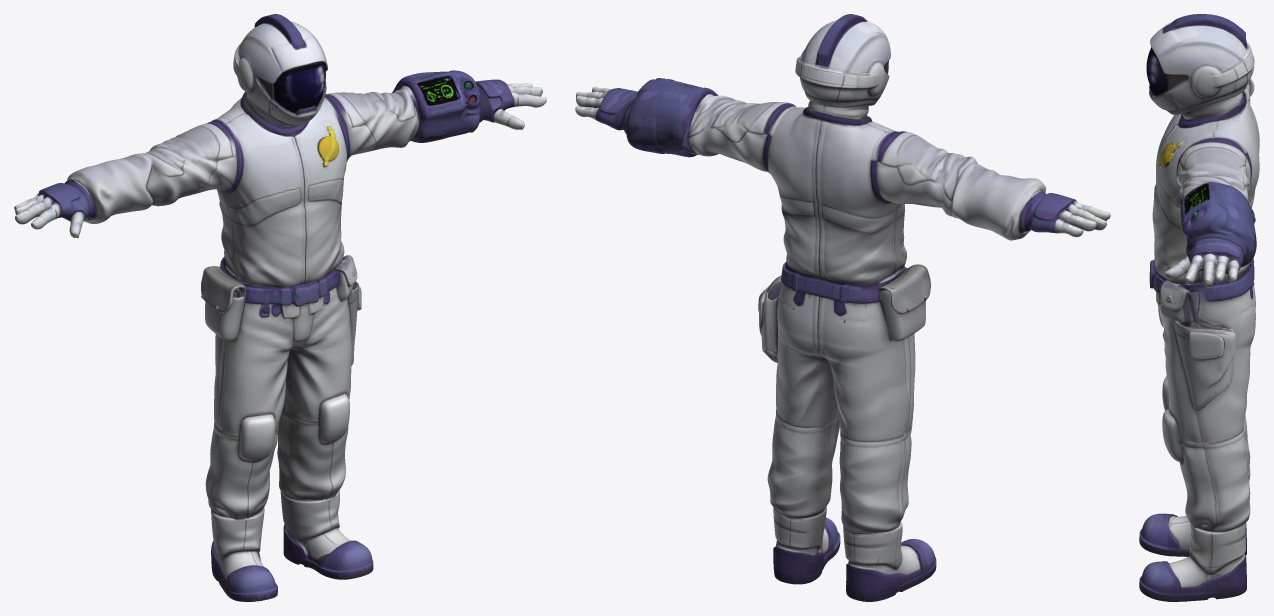
Rendered from Astronaut.glb.
3 views of the same model, side by side, from view 1: azimuth 30°, elevation 25°; view 2: azimuth 150°, elevation 25°; view 3: azimuth 270°, elevation 25° (orthographic).
Parts seen in each view (by area): view 1: Meshy_Mesh_0; view 2: Meshy_Mesh_0; view 3: Meshy_Mesh_0.
Part boxes in pixels (x1,y1,x2,y2): Meshy_Mesh_0: (14, 14, 546, 601); Meshy_Mesh_0: (575, 14, 1110, 601); Meshy_Mesh_0: (1139, 14, 1259, 601).
Size of the model in its own units: 1.89 by 1.9 by 0.3733.
Materials: 1 (1 with a texture image).
